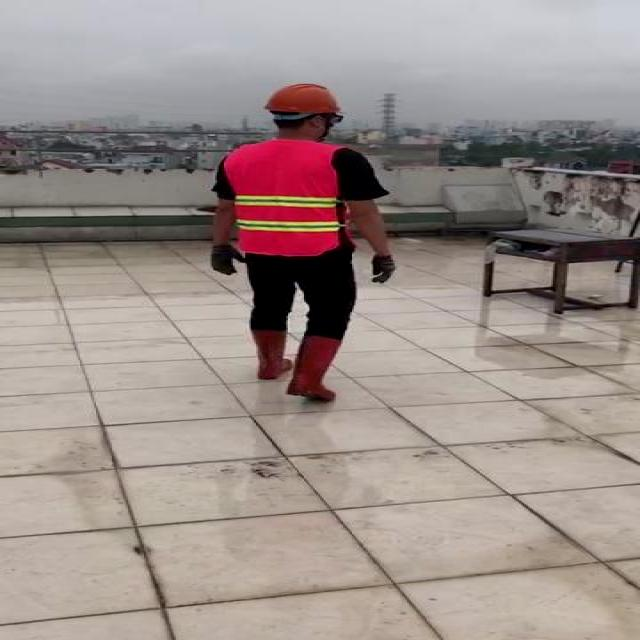boots: (286, 334, 342, 401), (249, 328, 291, 383)
hand_glove: (206, 244, 244, 275), (370, 254, 398, 284)
head_helmet: (265, 80, 341, 116)
person: (209, 81, 408, 400)
vest: (222, 138, 350, 256)
